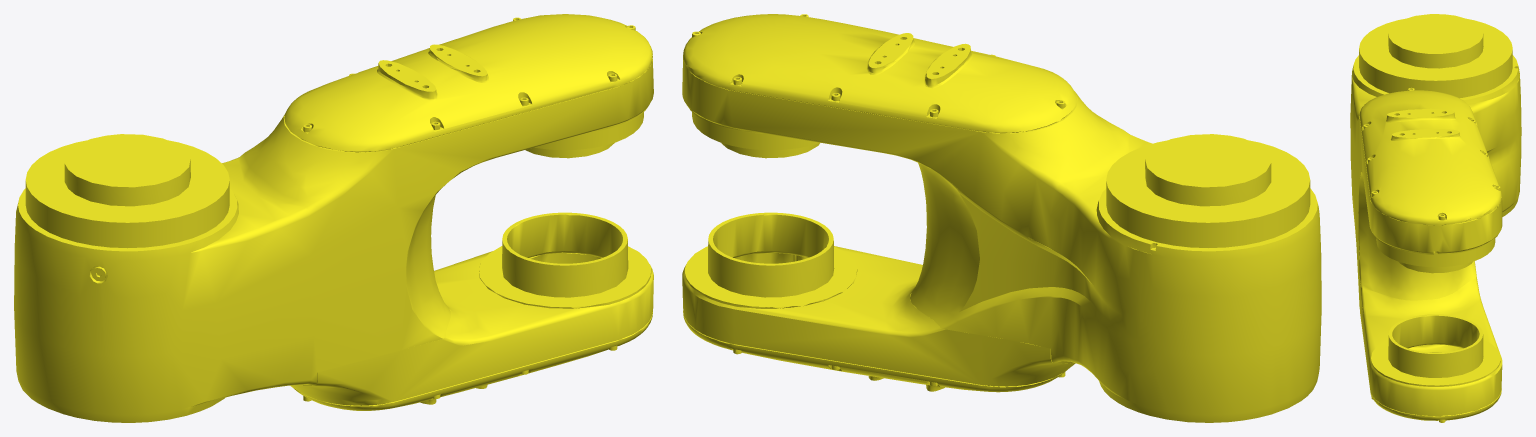
The picture shows the model from 3 angles, left to right: view 1: azimuth 30°, elevation 25°; view 2: azimuth 150°, elevation 25°; view 3: azimuth 270°, elevation 25°; orthographic projection. The views are drawn at different scales.
Visible parts, largest first — view 1: /Link2/Link2_004-mesh/0; view 2: /Link2/Link2_004-mesh/0; view 3: /Link2/Link2_004-mesh/0.
Boxes of the visible parts, <box> form: /Link2/Link2_004-mesh/0: <box>14,14,653,422</box>; /Link2/Link2_004-mesh/0: <box>682,14,1321,422</box>; /Link2/Link2_004-mesh/0: <box>1350,14,1521,422</box>.
Size of the model in its own units: 0.6725 by 0.328 by 0.216.
